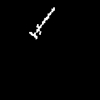double_crochet: (29, 8, 54, 38)
